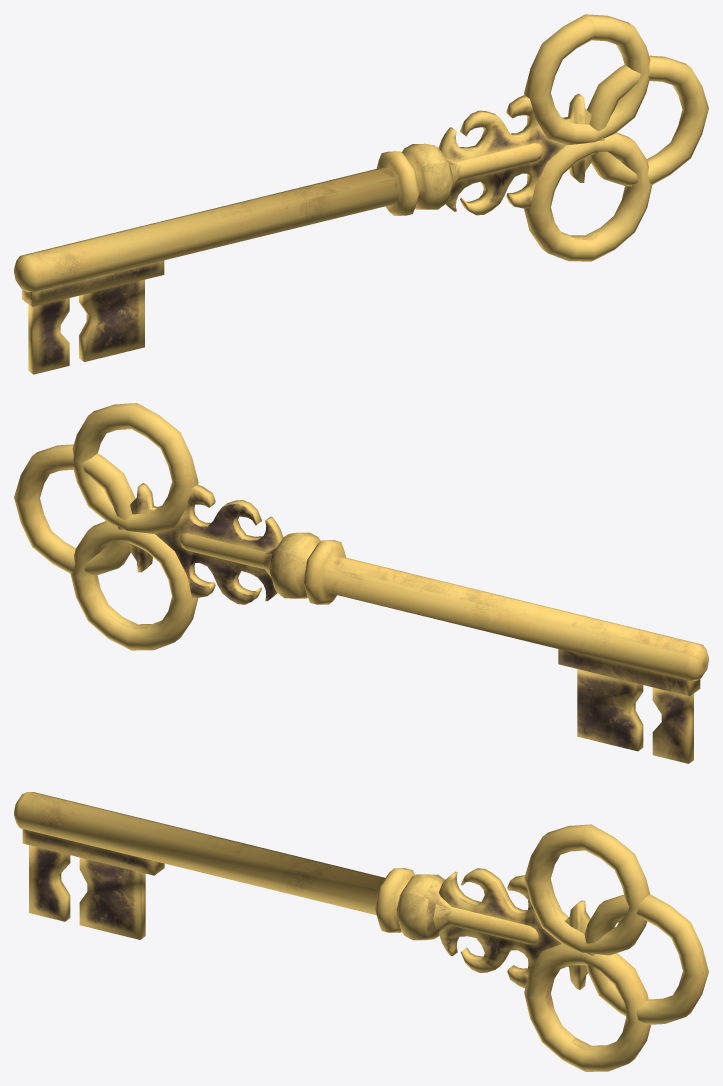
File: Key.fbx
3 views of the same model, one above another, from view 1: azimuth 30°, elevation 25°; view 2: azimuth 150°, elevation 25°; view 3: azimuth 330°, elevation 25° (orthographic).
Visible parts, largest first — view 1: KeyTower; view 2: KeyTower; view 3: KeyTower.
Boxes of the visible parts, left/top/right/bottom form: KeyTower: left=14, top=14, right=708, bottom=374; KeyTower: left=14, top=403, right=708, bottom=763; KeyTower: left=14, top=792, right=708, bottom=1071.
Size of the model in its own units: 5.36 by 1.81 by 0.4918.
Materials: 1 (1 with a texture image).
